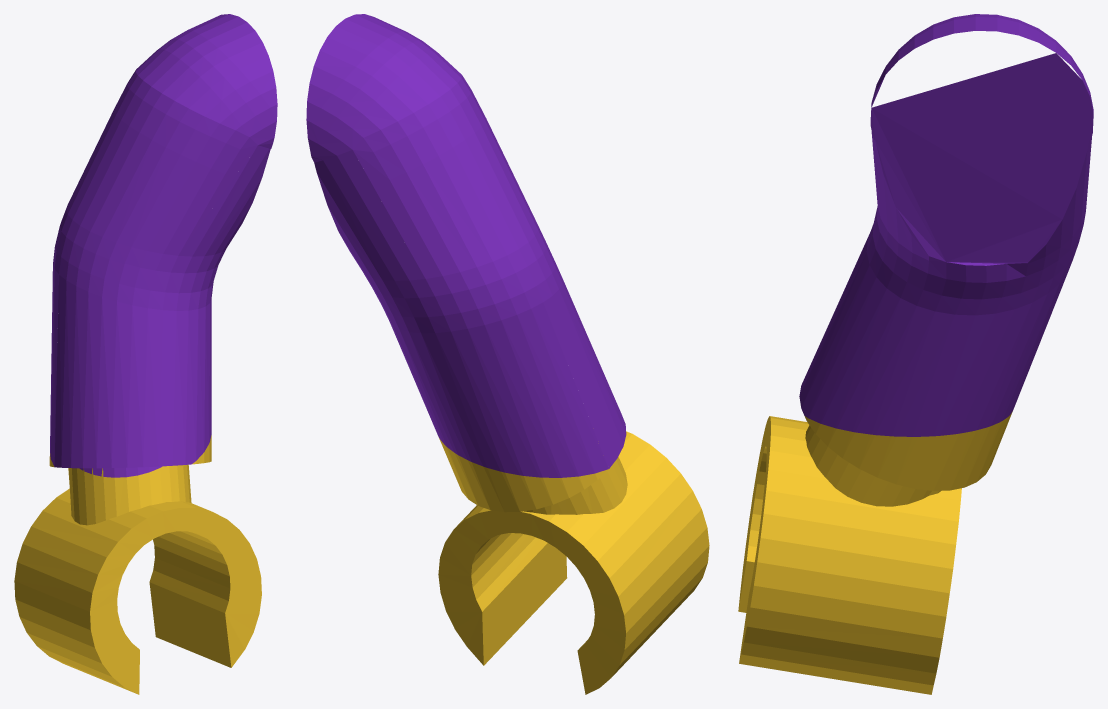
File: armL.glb
The picture shows the model from 3 angles, left to right: view 1: azimuth 30°, elevation 25°; view 2: azimuth 150°, elevation 25°; view 3: azimuth 270°, elevation 25°; orthographic projection. The views are drawn at different scales.
Visible parts, largest first — view 1: dex_armL; view 2: dex_armL; view 3: dex_armL.
Boxes of the visible parts, left/top/right/bottom form: dex_armL: left=14, top=14, right=277, bottom=694; dex_armL: left=306, top=14, right=709, bottom=694; dex_armL: left=738, top=14, right=1093, bottom=694.
Size of the model in its own units: 0.325 by 0.7369 by 0.322.
